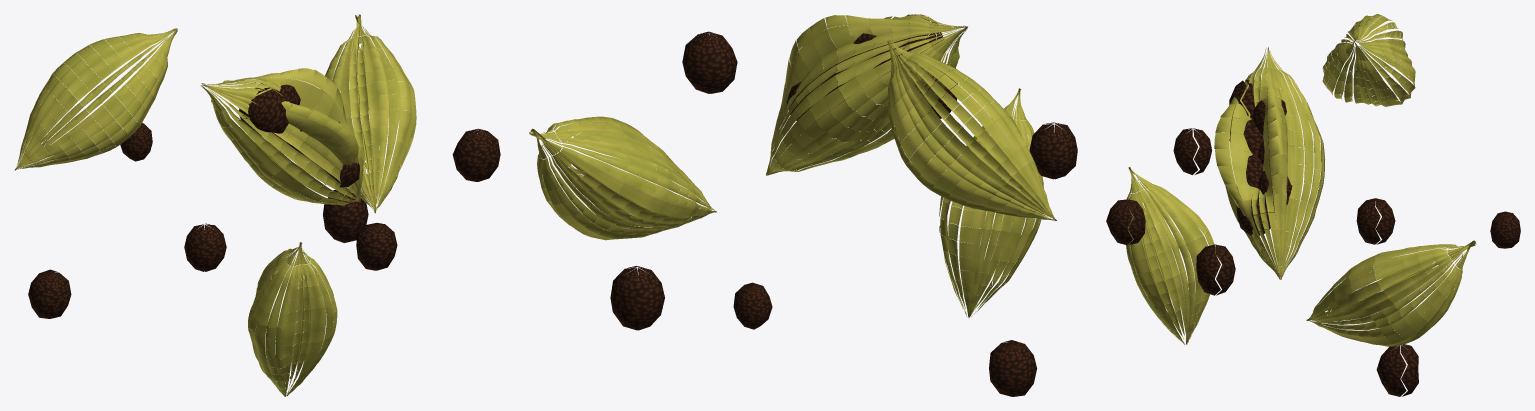
File: cardamom-pods.glb
The picture shows the model from 3 angles, left to right: view 1: azimuth 30°, elevation 25°; view 2: azimuth 150°, elevation 25°; view 3: azimuth 270°, elevation 25°; orthographic projection. The views are drawn at different scales.
Visible parts, largest first — view 1: cardamom-pods-husk, cardamom-seeds; view 2: cardamom-pods-husk, cardamom-seeds; view 3: cardamom-pods-husk, cardamom-seeds.
Boxes of the visible parts, box(x1,y1,x2,y2) form: cardamom-pods-husk: box(15, 14, 416, 396); cardamom-seeds: box(28, 83, 500, 318); cardamom-pods-husk: box(529, 14, 1056, 317); cardamom-seeds: box(610, 14, 1077, 396); cardamom-pods-husk: box(1126, 14, 1476, 346); cardamom-seeds: box(1106, 79, 1520, 396).
Bounding box in the file's own units: 0.05 × 0.0362 × 0.0462.
Materials: 2 (2 with a texture image).
